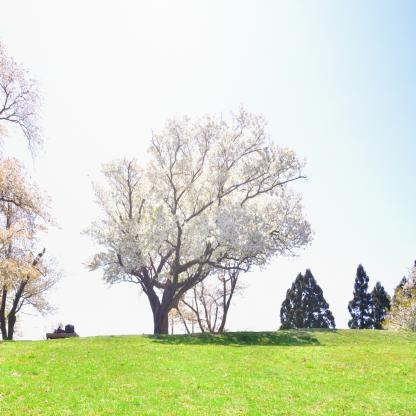OshimaSakura: (80, 99, 316, 290), (0, 39, 63, 338)
